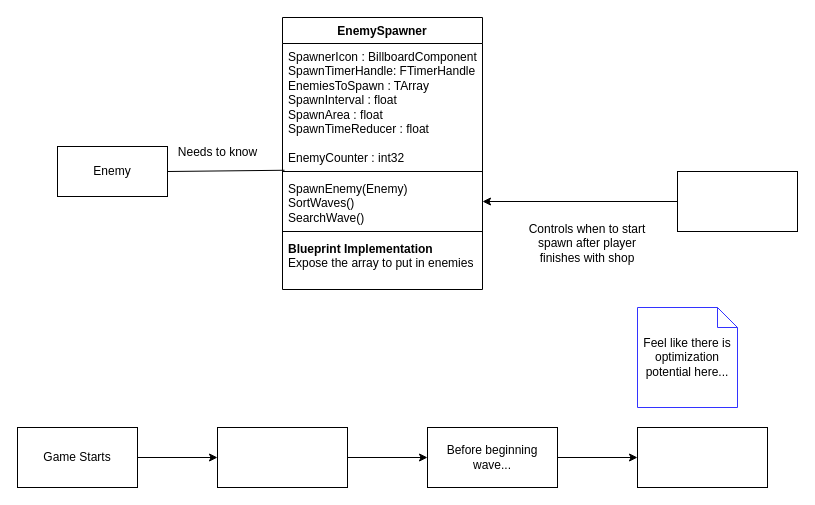
The diagram is 815 pixels wide and 505 high, and some of its shapes have lost their labels. Each missing label, with the centre of its shape:
Search through entire sorted list, finding CurrentWaves % WaveTrigger == 0: (x=702, y=457)
Sort Waves by priority: (x=282, y=457)
SoulShopWidget: (x=737, y=201)
